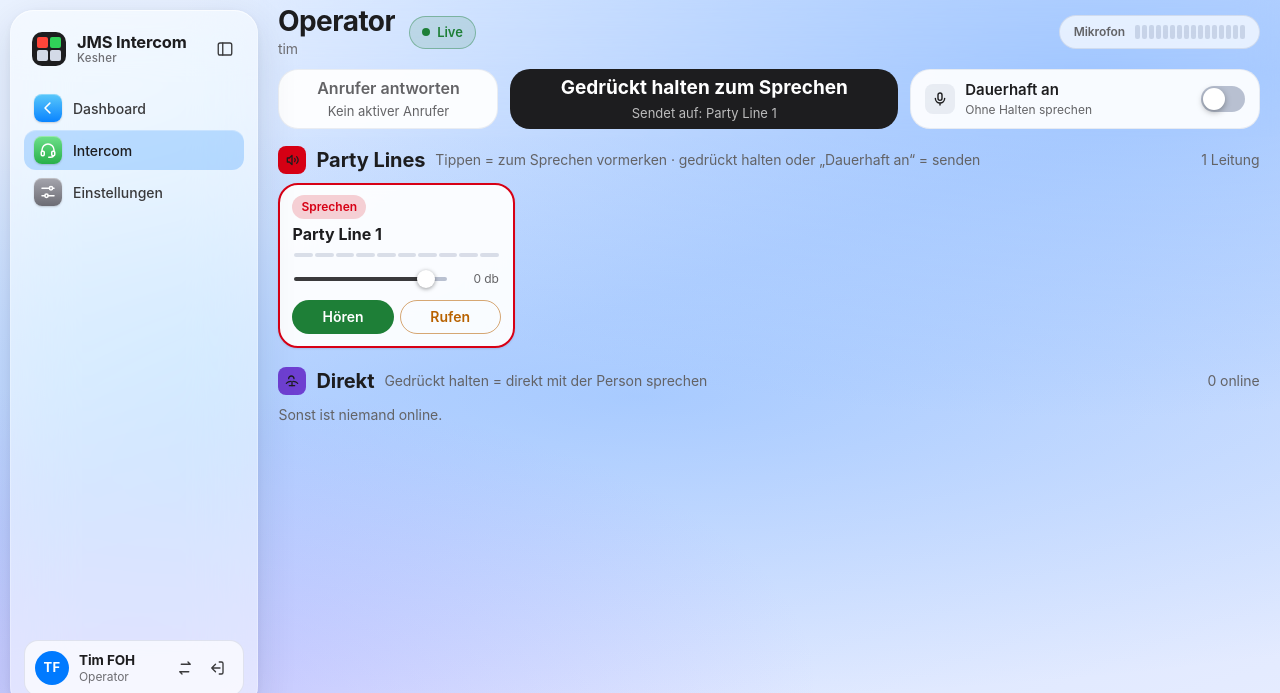
Test: StationIntercomView › in the sidebar frame (like JMS Control) › shows Intercom and Einstellungen in the sidebar and the settings as a page
Later steps or results of the test are not shown.
Expected: the navigation bar named "Bereiche" is shown, 24,94 -> 244,212
Expected: the number of buttons named "Abmelden" is 1, 201,652 -> 233,684
What coordinates should you click on to do the following:
click the button "Einstellungen"
I would click on:
 (134, 192)
Its box is 24,172 -> 244,212.
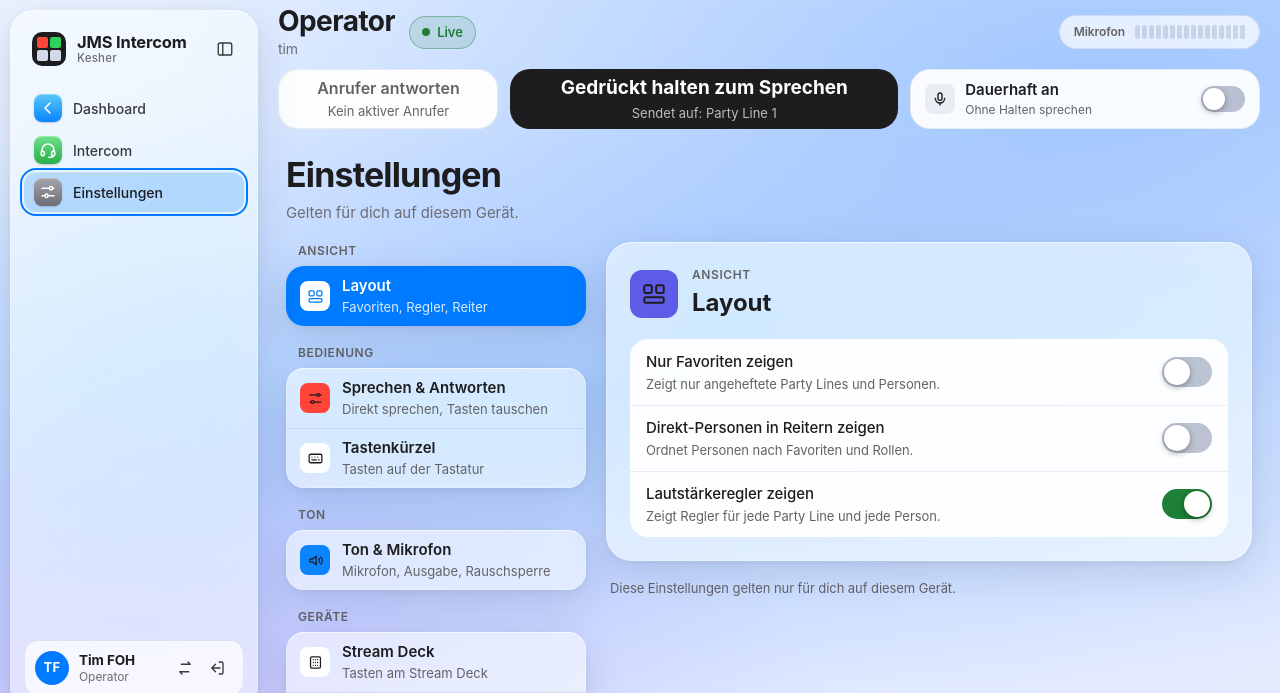
Result: the heading "Einstellungen" is shown at 286,155 -> 519,196
What coordinates should you click on to do the following:
click the button "Sprechen & Antworten"
I would click on:
 (436, 398)
Its box is 286,368 -> 586,428.
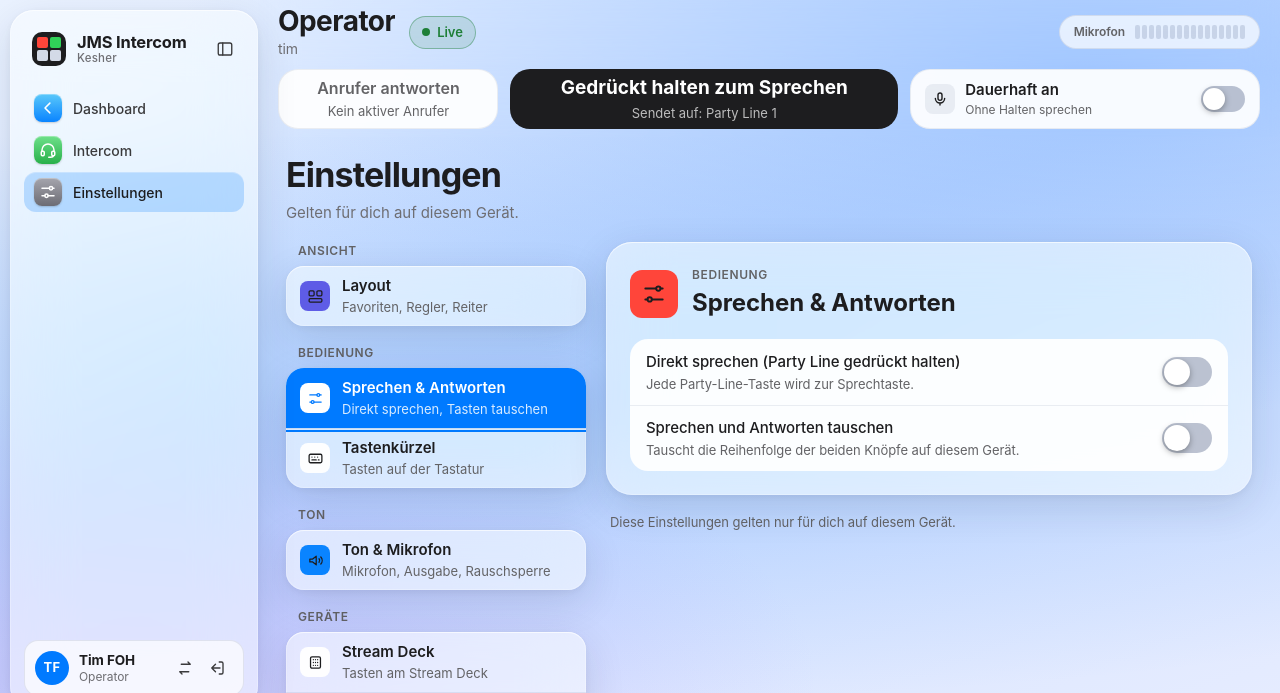
Result: the checkbox labelled "Sprechen und Antworten tauschen" is shown at 630,405 -> 1228,471
